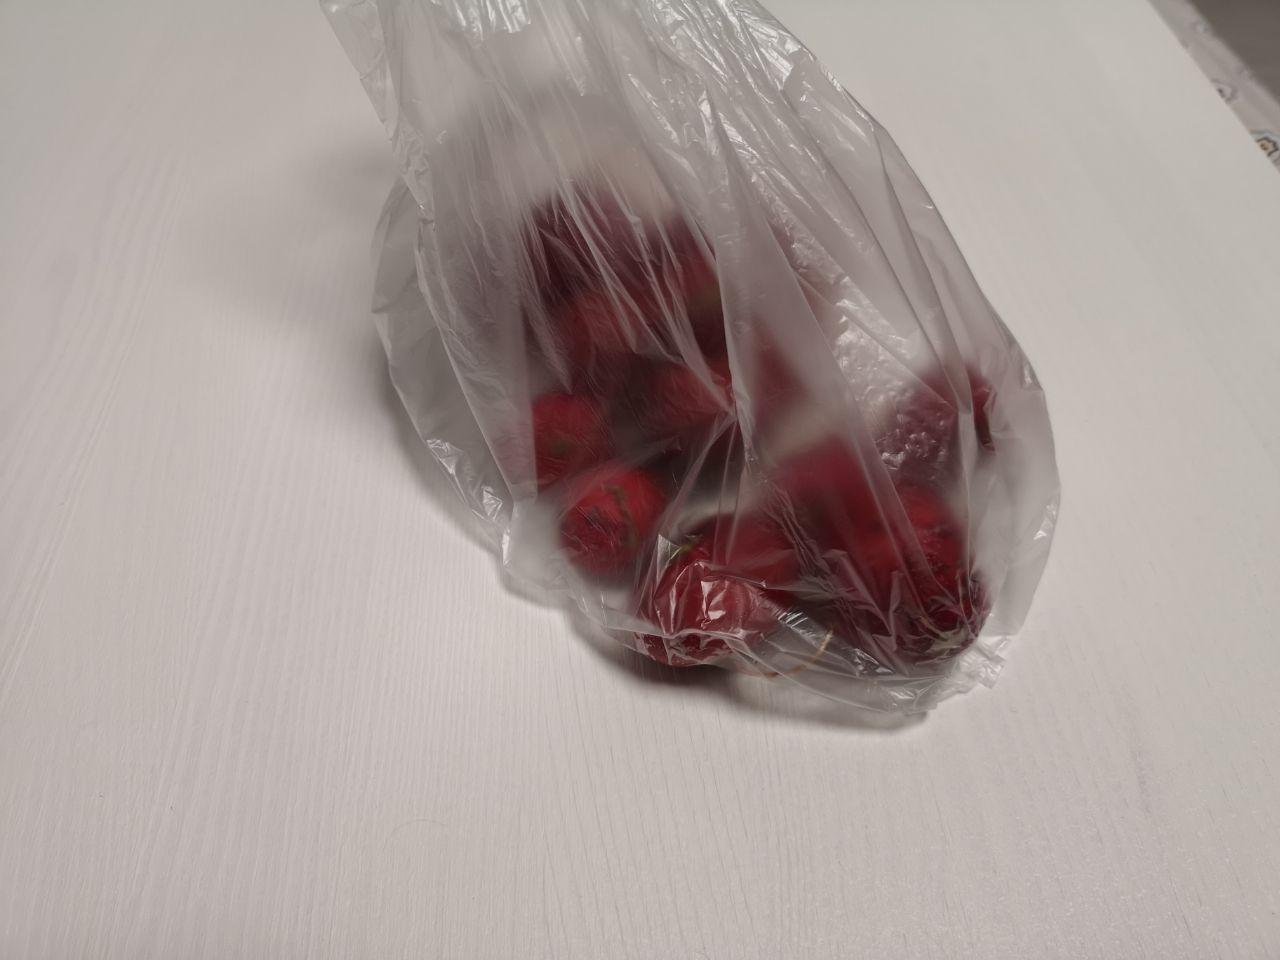redish: (327, 127, 1136, 810)
